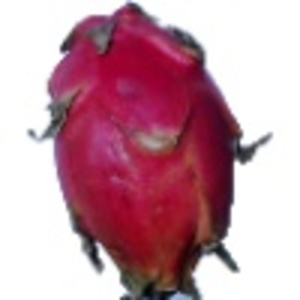pitaia: (27, 1, 272, 300)
